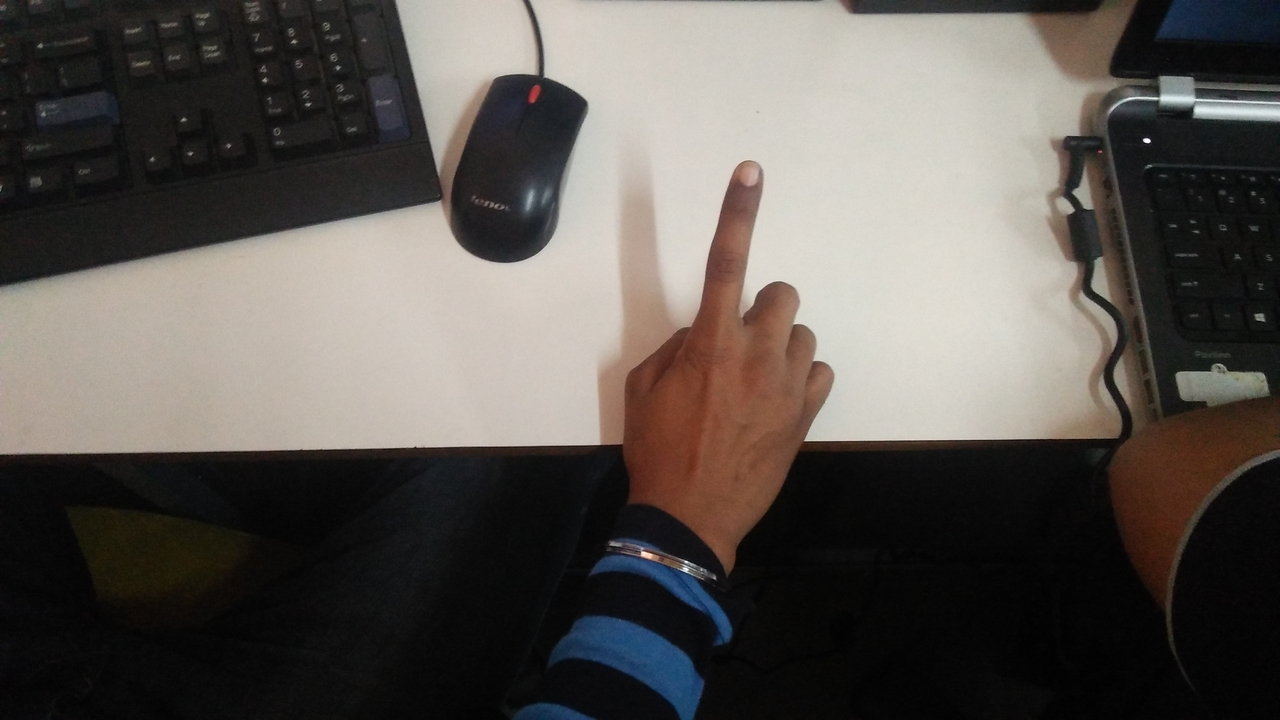fingertip: (716, 150, 776, 198)
